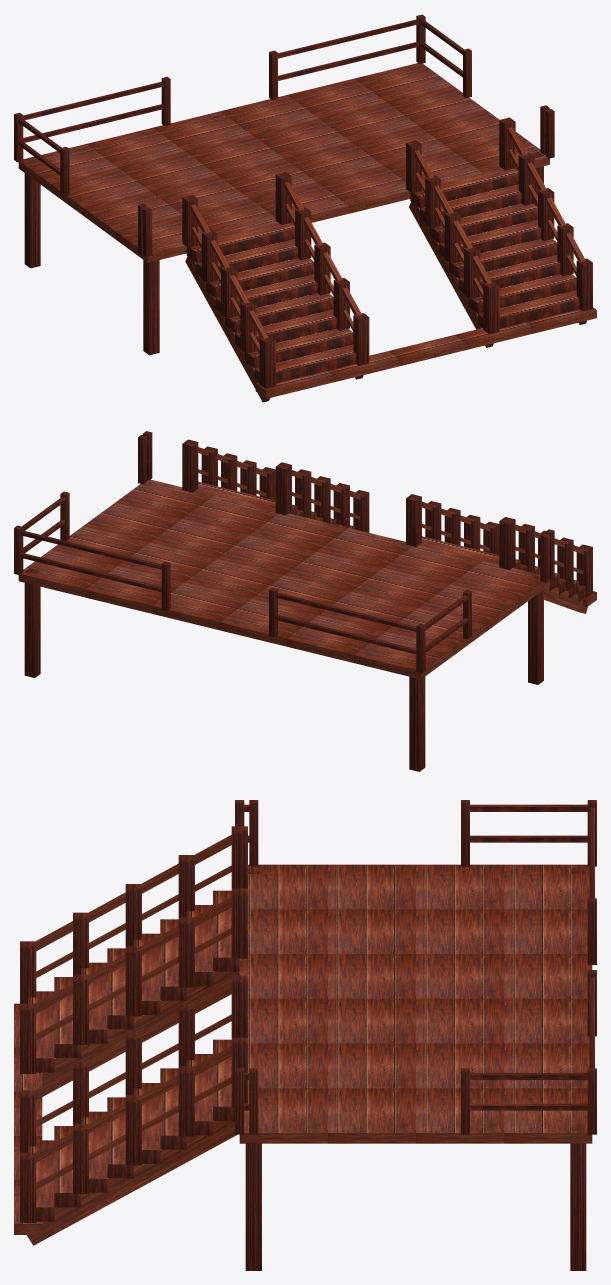
File: DoubleStaresBase_LOD2.fbx
3 views of the same model, one above another, from view 1: azimuth 30°, elevation 25°; view 2: azimuth 150°, elevation 25°; view 3: azimuth 270°, elevation 25° (orthographic). The views are drawn at different scales.
Parts seen in each view (by area): view 1: Retopo_DoubleStaresBase_LOD2.001; view 2: Retopo_DoubleStaresBase_LOD2.001; view 3: Retopo_DoubleStaresBase_LOD2.001.
Boxes of the visible parts, x1,y1,x2,y2 form: Retopo_DoubleStaresBase_LOD2.001: (14, 14, 596, 402); Retopo_DoubleStaresBase_LOD2.001: (14, 431, 596, 771); Retopo_DoubleStaresBase_LOD2.001: (14, 800, 596, 1270).
Size of the model in its own units: 913 by 319 by 826.
